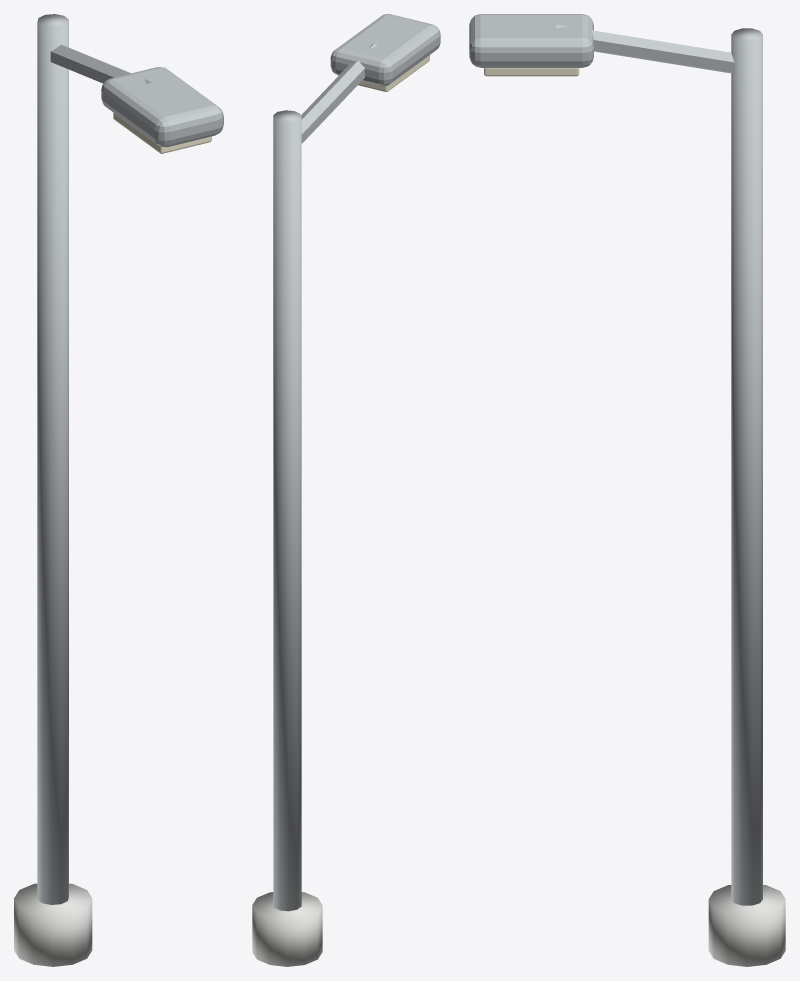
Rendered from street_lamp.glb.
The picture shows the model from 3 angles, left to right: view 1: azimuth 30°, elevation 25°; view 2: azimuth 150°, elevation 25°; view 3: azimuth 270°, elevation 25°; orthographic projection. The views are drawn at different scales.
Visible parts, largest first — view 1: street_lamp; view 2: street_lamp; view 3: street_lamp.
Part boxes in pixels (x1,y1,x2,y2): street_lamp: (14,14,223,966); street_lamp: (252,14,440,966); street_lamp: (469,14,785,966).
Size of the model in its own units: 0.34 by 4.5 by 1.4.
